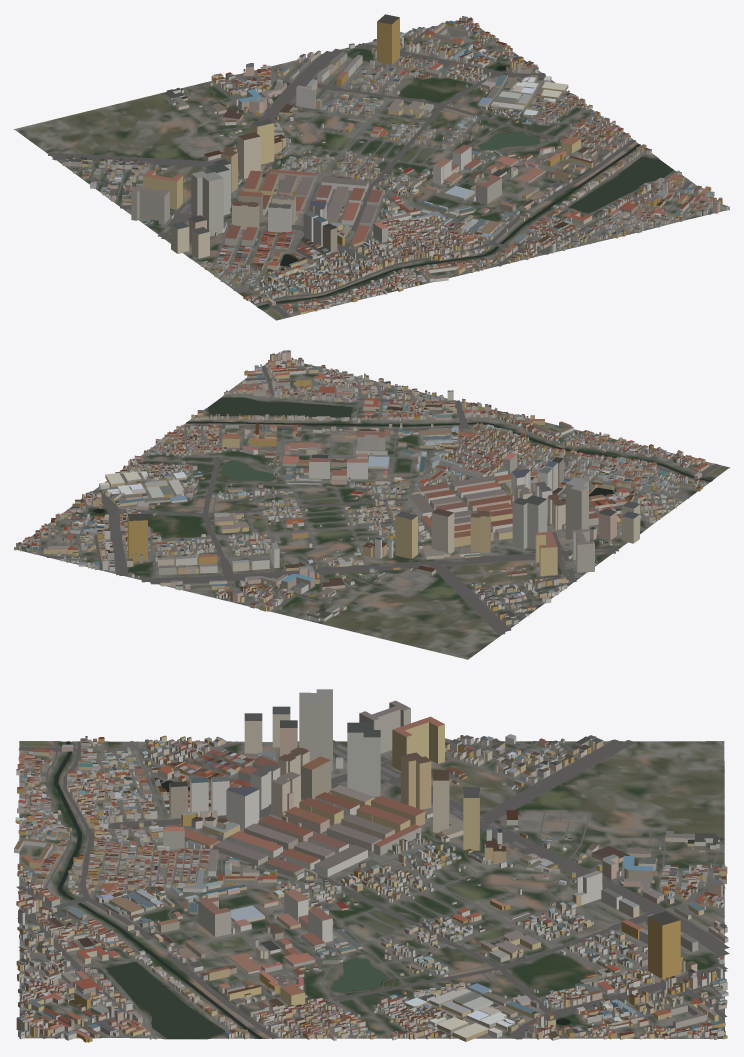
3 views of the same model, one above another, from view 1: azimuth 30°, elevation 25°; view 2: azimuth 150°, elevation 25°; view 3: azimuth 270°, elevation 25° (orthographic). The views are drawn at different scales.
Parts seen in each view (by area): view 1: buildings, ground, roads, water; view 2: buildings, ground, roads, water; view 3: buildings, ground, roads, water.
Part boxes in pixels (x1=…): buildings: x1=62, y1=14, x2=729, y2=314; ground: x1=14, y1=19, x2=729, y2=320; roads: x1=48, y1=23, x2=712, y2=318; water: x1=257, y1=66, x2=673, y2=308; buildings: x1=14, y1=350, x2=708, y2=624; ground: x1=16, y1=360, x2=729, y2=659; roads: x1=22, y1=361, x2=720, y2=635; water: x1=93, y1=397, x2=712, y2=550; buildings: x1=14, y1=689, x2=728, y2=1042; ground: x1=19, y1=741, x2=724, y2=1039; roads: x1=16, y1=739, x2=729, y2=1039; water: x1=54, y1=741, x2=570, y2=1038.
Size of the model in its own units: 1436 by 166 by 1423.
